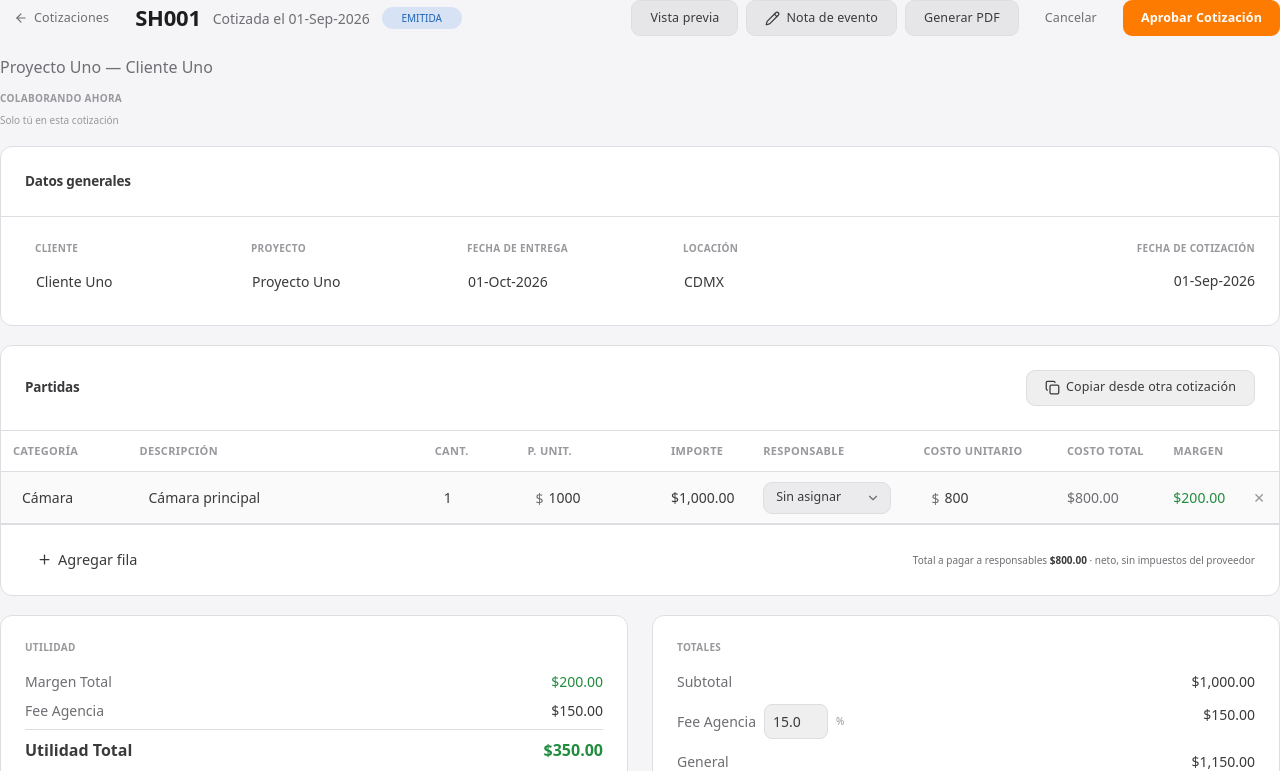
Test case: page.tsx -- characterization de autosave/flush/reconciliación (3D-0) › T7 (realidad, corrige la descripción del plan): Notas NO tiene banner de conflicto -- un fallo de guardado se trata como error genérico
The width and height of the screenshot is (1280, 771).
Click the button "Nota de evento": (822, 18) [746,0,897,36]
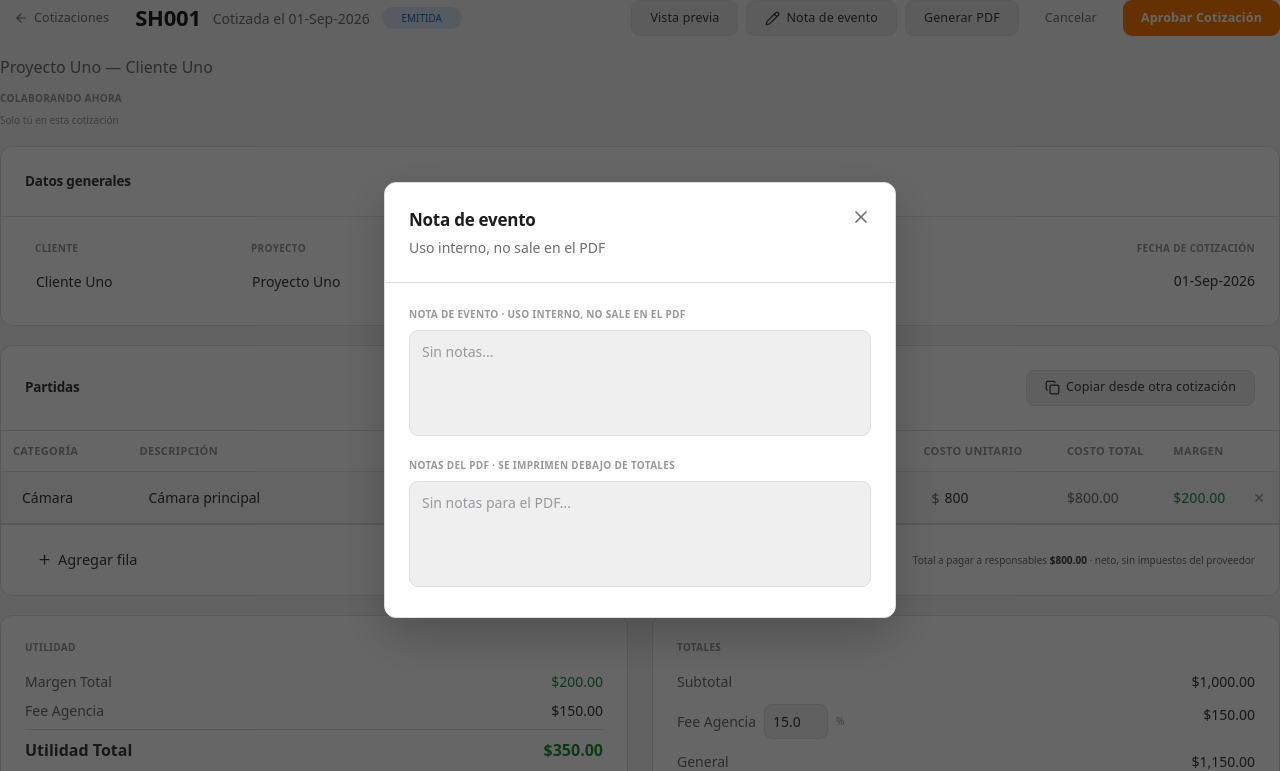
In the text box with placeholder "Sin notas...": (640, 383) [409,330,871,436], type "Nota en conflicto"
Wait 800 ms
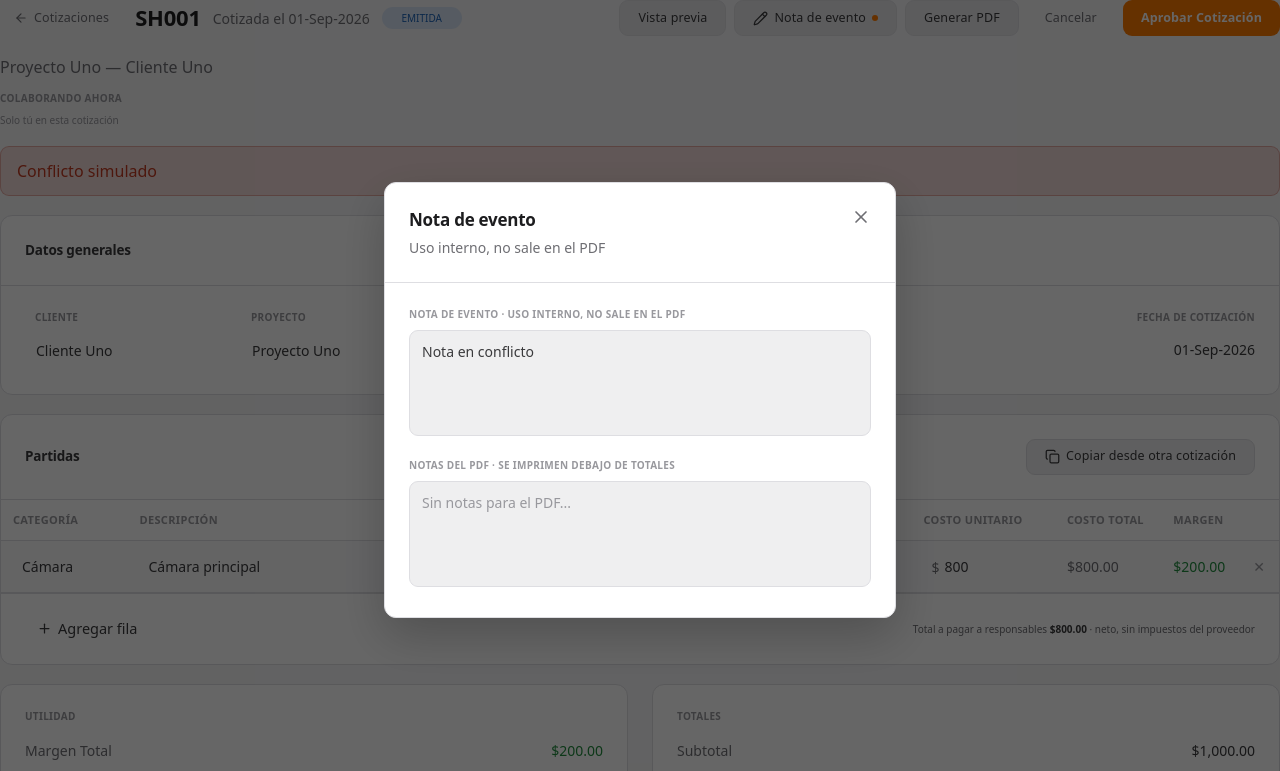
Expected: the text "Conflicto simulado" is shown, [0,146,1279,196]
